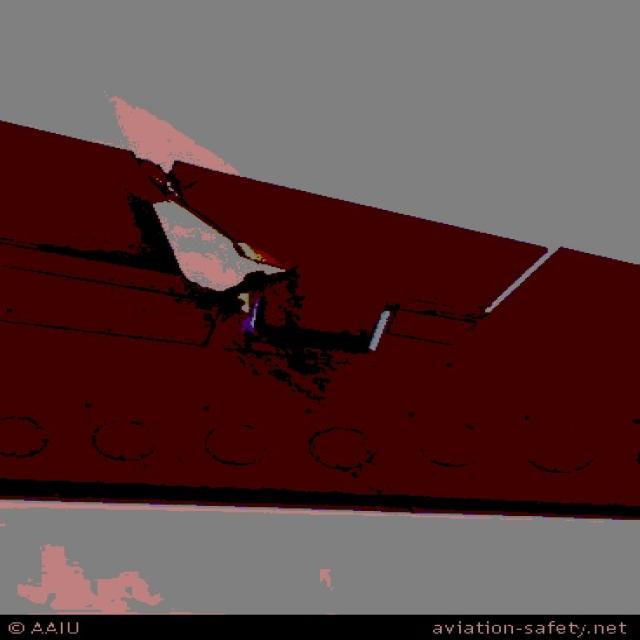crack: (119, 153, 300, 295)
